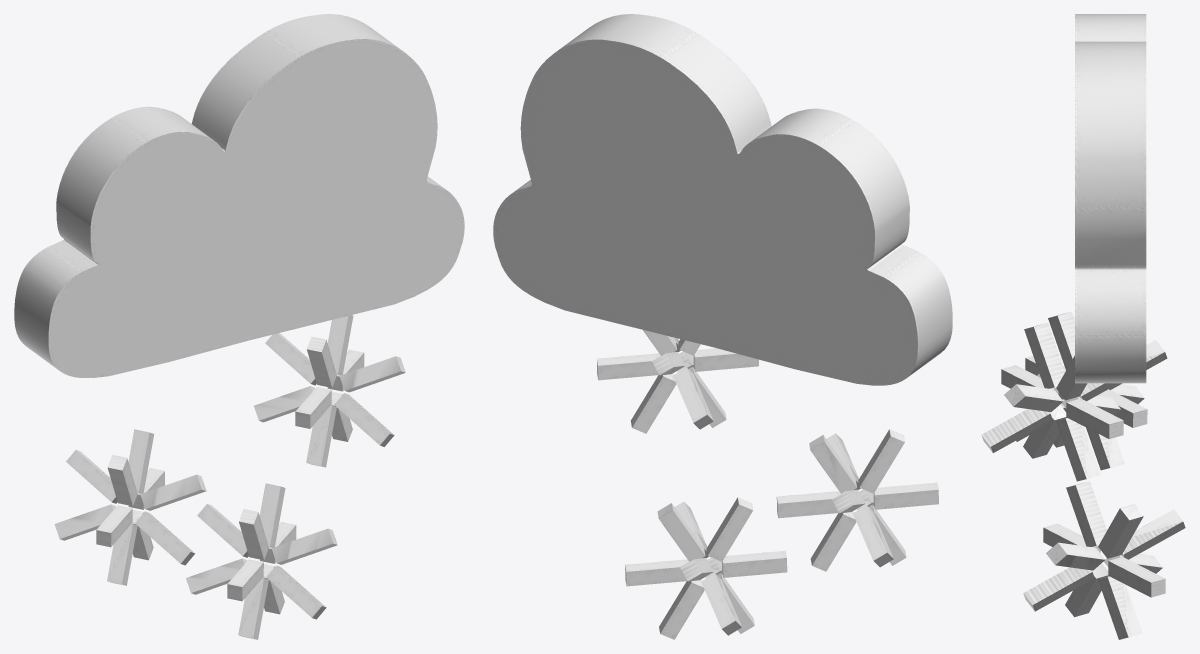
The model's file is snow.glb.
3 renders of one model, left to right at view 1: azimuth 30°, elevation 25°; view 2: azimuth 150°, elevation 25°; view 3: azimuth 270°, elevation 25°, orthographic. The views are drawn at different scales.
Visible parts, largest first — view 1: snow; view 2: snow; view 3: snow.
Boxes of the visible parts, x1,y1,x2,y2 form: snow: [14, 14, 464, 639]; snow: [493, 14, 952, 639]; snow: [981, 14, 1185, 639].
Bounding box in the file's own units: 22.86 × 30.39 × 9.34.
1 material, 1 textured.
